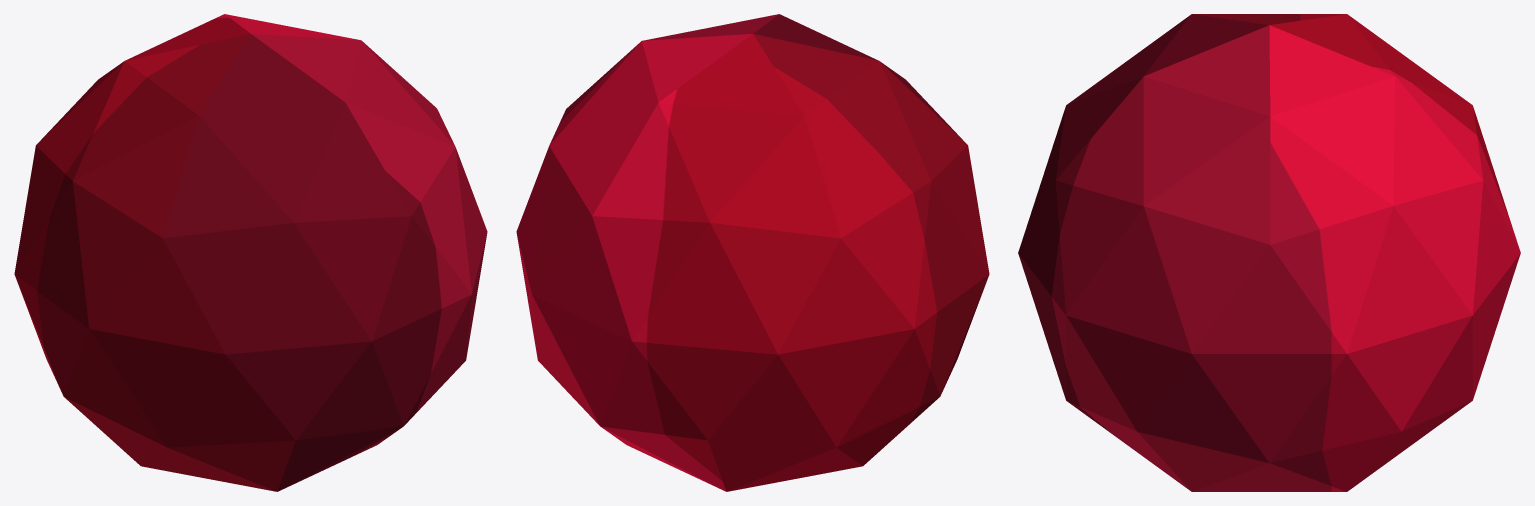
The model's file is Gem.fbx.
3 renders of one model, left to right at view 1: azimuth 30°, elevation 25°; view 2: azimuth 150°, elevation 25°; view 3: azimuth 270°, elevation 25°, orthographic. The views are drawn at different scales.
Parts seen in each view (by area): view 1: Icosphere; view 2: Icosphere; view 3: Icosphere.
Part boxes in pixels (x1=…): Icosphere: x1=14, y1=14, x2=487, y2=491; Icosphere: x1=516, y1=14, x2=989, y2=491; Icosphere: x1=1018, y1=14, x2=1520, y2=491.
Bounding box in the file's own units: 190 × 200 × 200.
